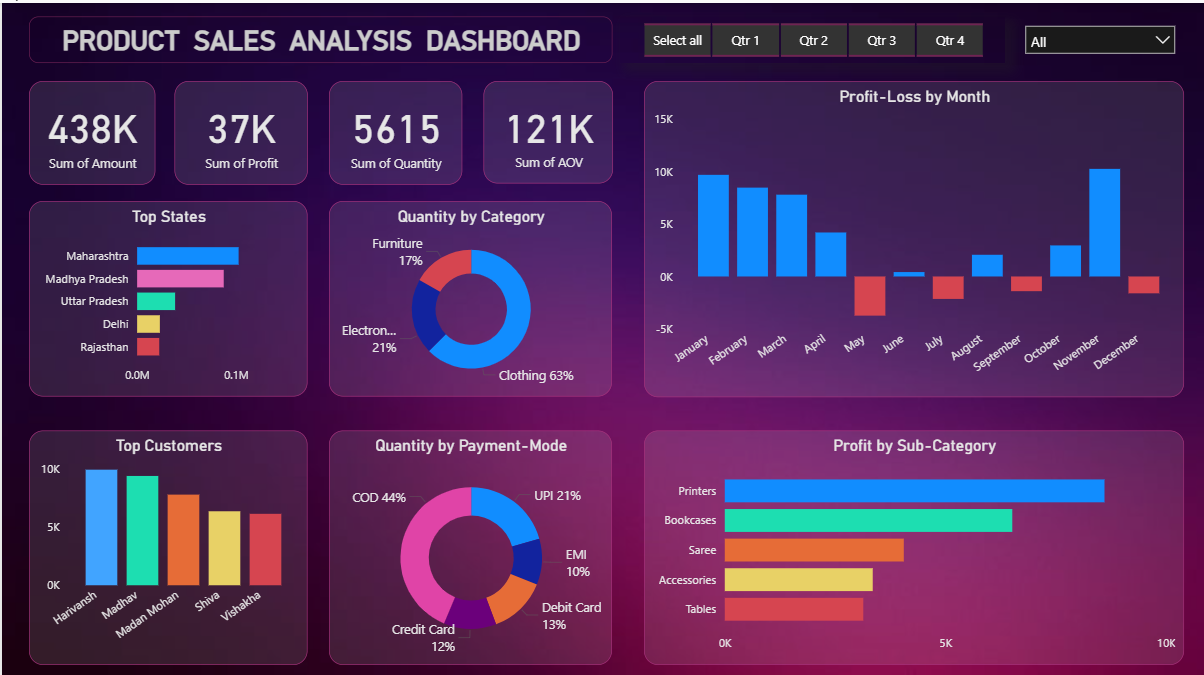

This screenshot's page, from the dashboard's own definition file:
{"tool":"powerbi","page":{"name":"PRODUCT SALES ANALYSIS DASHBOARD","canvas":[1280,720],"ordinal":0},"visuals":[{"type":"columnChart","title":"Profit-Loss by Month","fields":{"Y":["Details.Profit"],"Category":["Orders.Order Date.Variation.Date Hierarchy.Month"]},"box":[681.4,82,572.9,335.3],"z":0},{"type":"barChart","title":"Profit by Sub-Category","fields":{"Category":["Details.Sub-Category"],"Y":["Details.Profit"]},"box":[681.4,453.5,572.9,248.4],"z":1000},{"type":"donutChart","title":"Quantity by Category","fields":{"Category":["Details.Category"],"Y":["Details.Quantity"]},"box":[347.3,209.8,300.3,207.4],"z":2000},{"type":"donutChart","title":"Quantity by Payment-Mode","fields":{"Category":["Details.PaymentMode"],"Y":["Details.Quantity"]},"box":[347.3,453.5,300.3,248.4],"z":3000},{"type":"card","fields":{"Values":["Details.Amount"]},"box":[28.9,82,133.9,109.7],"z":4000},{"type":"card","fields":{"Values":["Details.Profit"]},"box":[183.3,83.2,141.1,109.7],"z":5000},{"type":"card","fields":{"Values":["Details.Quantity"]},"box":[347.3,82,141.1,109.7],"z":6000},{"type":"card","fields":{"Values":["Details.AOV"]},"box":[510.2,82,137.5,108.5],"z":7000},{"type":"barChart","title":"Top States","fields":{"Category":["Orders.State"],"Y":["Details.Amount"]},"box":[28.9,209.8,295.5,207.4],"z":8000},{"type":"columnChart","title":"Top Customers","fields":{"Category":["Orders.CustomerName"],"Y":["Details.Amount"]},"box":[28.9,453.5,295.5,248.4],"z":9000},{"type":"slicer","fields":{"Values":["Orders.Order Date.Variation.Date Hierarchy.Quarter"]},"box":[656.1,14.5,408.8,49.4],"z":10000},{"type":"slicer","fields":{"Values":["Orders.State"]},"box":[1075.8,14.5,178.5,49.4],"z":11000},{"type":"textbox","box":[28.9,14.5,618.7,49.4],"z":12000}]}

Visuals, with their boxes in screenshot pixels (x1, y1, x2, y2), scaled from the page's 1280x720 canvas onto the 1204x675 screenshot:
"Profit-Loss by Month" columnChart: BBox(641, 77, 1180, 391)
"Profit by Sub-Category" barChart: BBox(641, 425, 1180, 658)
"Quantity by Category" donutChart: BBox(327, 197, 609, 391)
"Quantity by Payment-Mode" donutChart: BBox(327, 425, 609, 658)
card - Details.Amount: BBox(27, 77, 153, 180)
card - Details.Profit: BBox(172, 78, 305, 181)
card - Details.Quantity: BBox(327, 77, 459, 180)
card - Details.AOV: BBox(480, 77, 609, 179)
"Top States" barChart: BBox(27, 197, 305, 391)
"Top Customers" columnChart: BBox(27, 425, 305, 658)
slicer - Orders.Order Date.Variation.Date Hierarchy.Quarter: BBox(617, 14, 1002, 60)
slicer - Orders.State: BBox(1012, 14, 1180, 60)
textbox: BBox(27, 14, 609, 60)
